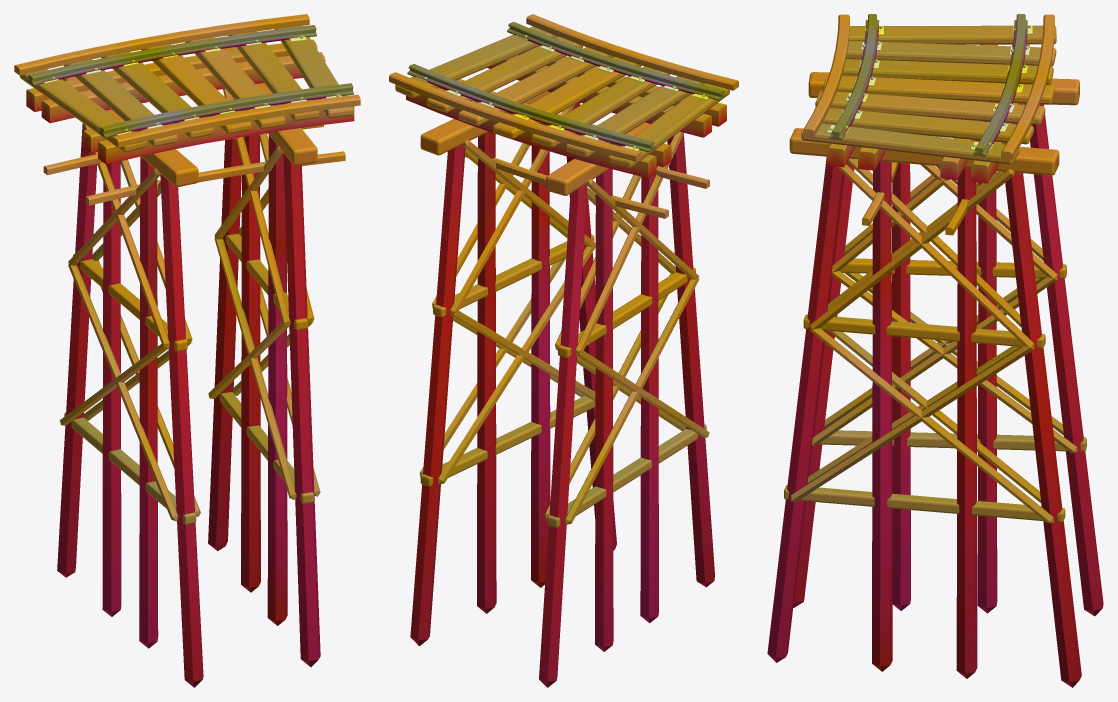
Rendered from Track_Bridge_Curve_R20_15_A.fbx.
3 views of the same model, side by side, from view 1: azimuth 30°, elevation 25°; view 2: azimuth 150°, elevation 25°; view 3: azimuth 270°, elevation 25° (orthographic). The views are drawn at different scales.
Visible parts, largest first — view 1: Track_Bridge_Curve_R20_15_A; view 2: Track_Bridge_Curve_R20_15_A; view 3: Track_Bridge_Curve_R20_15_A.
Boxes of the visible parts, x1,y1,x2,y2 form: Track_Bridge_Curve_R20_15_A: [14, 14, 360, 687]; Track_Bridge_Curve_R20_15_A: [389, 14, 738, 687]; Track_Bridge_Curve_R20_15_A: [767, 14, 1103, 687].
Size of the model in its own units: 5.66 by 10.85 by 5.83.
